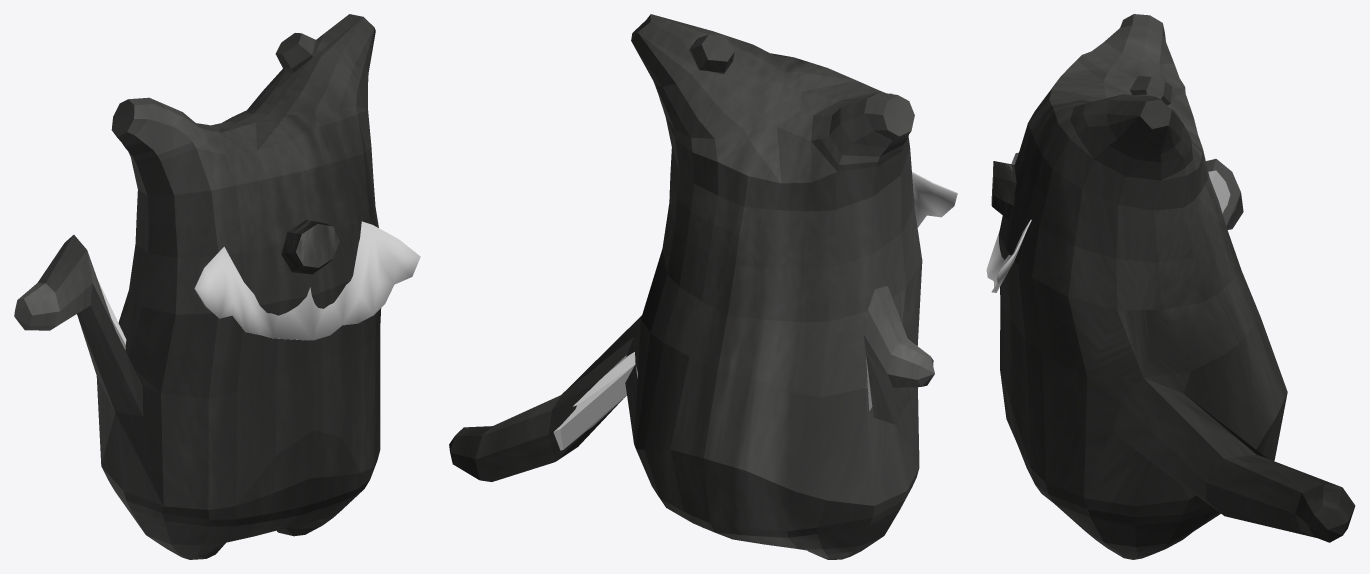
Rendered from frame_0056.obj.
3 views of the same model, side by side, from view 1: azimuth 30°, elevation 25°; view 2: azimuth 150°, elevation 25°; view 3: azimuth 270°, elevation 25° (orthographic). The views are drawn at different scales.
Visible parts, largest first — view 1: korok, leaf, nose; view 2: korok, leaf; view 3: korok, nose, leaf.
Boxes of the visible parts, box(x1,y1,x2,y2) form: korok: box(14, 14, 381, 559); leaf: box(194, 221, 420, 340); nose: box(281, 220, 339, 274); korok: box(449, 14, 934, 559); leaf: box(912, 171, 957, 227); korok: box(999, 14, 1355, 559); nose: box(991, 161, 1016, 219); leaf: box(986, 152, 1031, 292).
Size of the model in its own units: 1.96 by 2.2 by 1.5.
